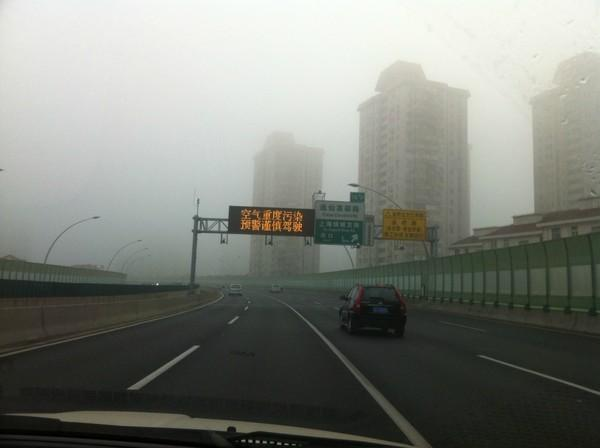car: (338, 283, 410, 338), (228, 283, 243, 294), (268, 282, 281, 293)
